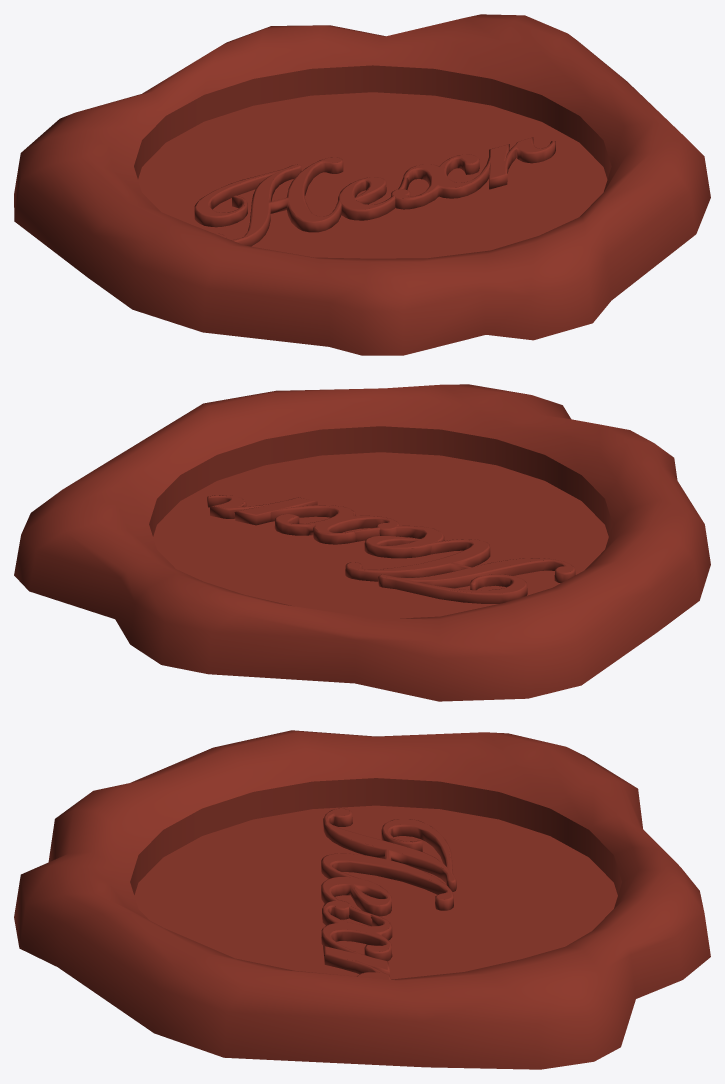
The model's file is BeginSeal.fbx.
3 renders of one model, top to bottom at view 1: azimuth 30°, elevation 25°; view 2: azimuth 150°, elevation 25°; view 3: azimuth 270°, elevation 25°, orthographic. The views are drawn at different scales.
Visible parts, largest first — view 1: Seal; view 2: Seal; view 3: Seal.
Boxes of the visible parts, box(x1,y1,x2,y2) form: Seal: box(14, 14, 710, 355); Seal: box(14, 384, 710, 701); Seal: box(14, 730, 710, 1069).
Size of the model in its own units: 3.46 by 0.423 by 3.54.
